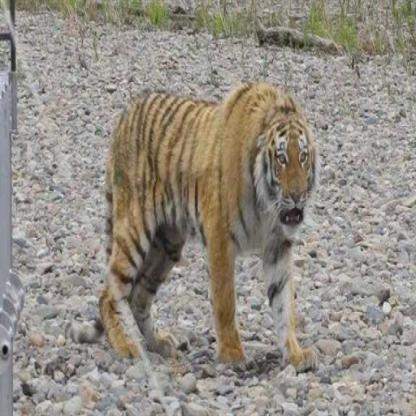Tiger: (56, 72, 337, 385)
